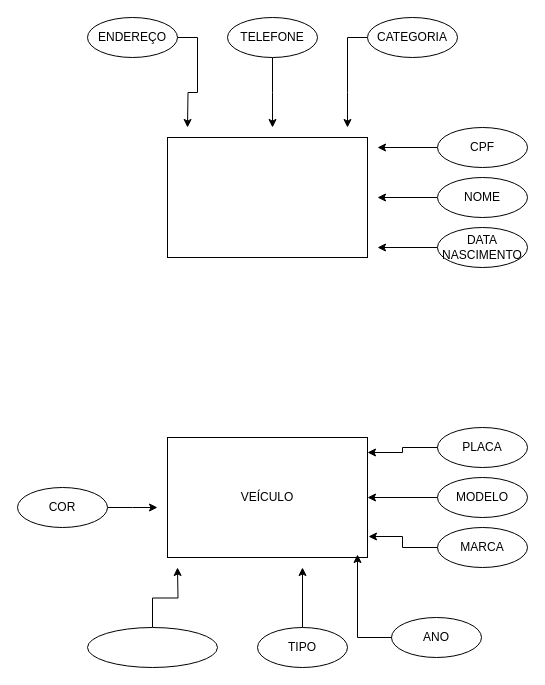
Image size: 545x685. Some labels were removed from this diagram. The shapes that lost their labels are listed below. From the top down, each one's centre as x and y in pixels, then its label:
At point 267,197: "CLIENTE".
At point 152,647: "DISPONIBILIDADE".
